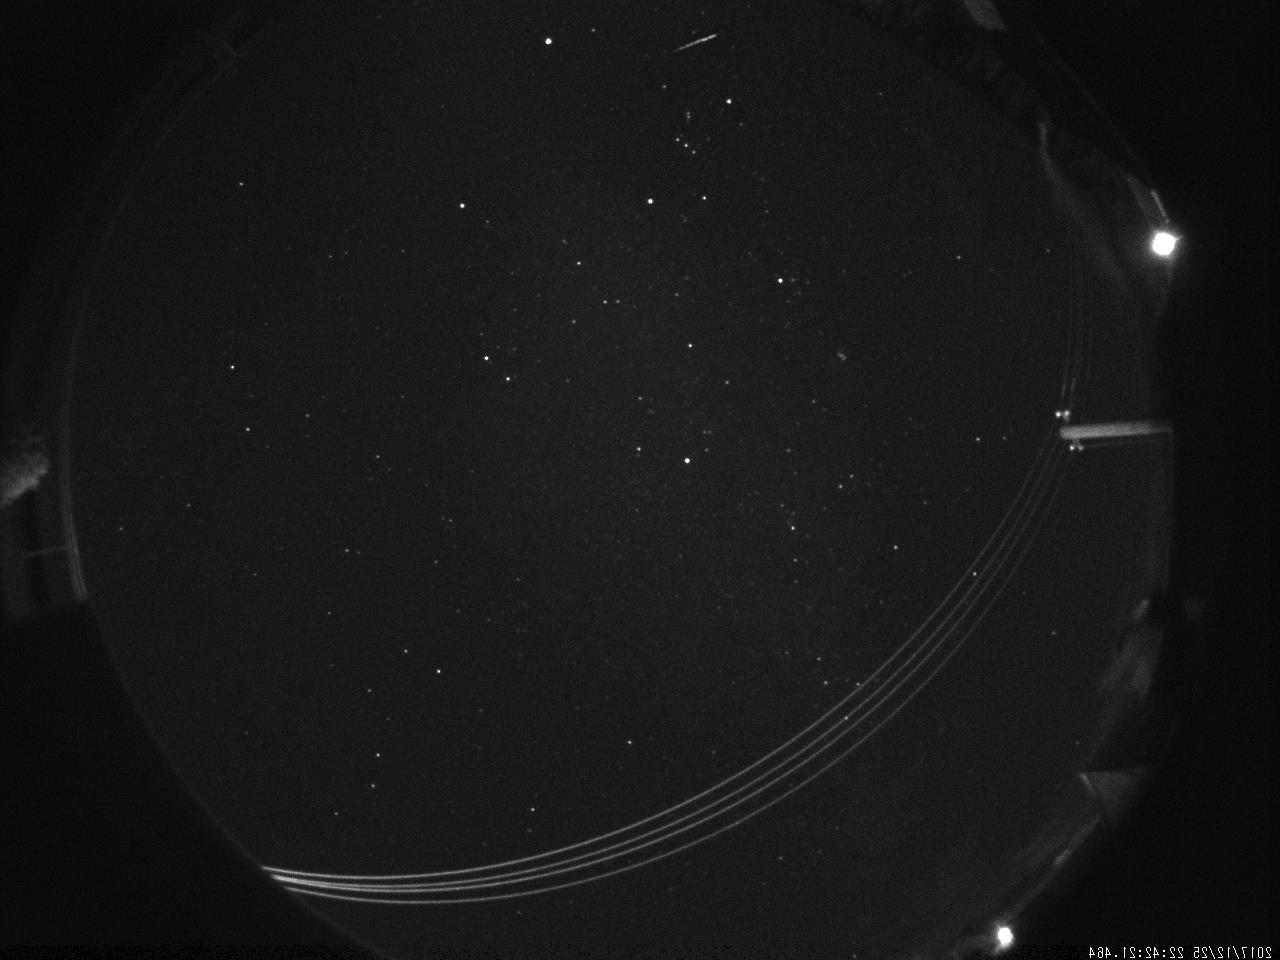meteor: (653, 28, 732, 61)
